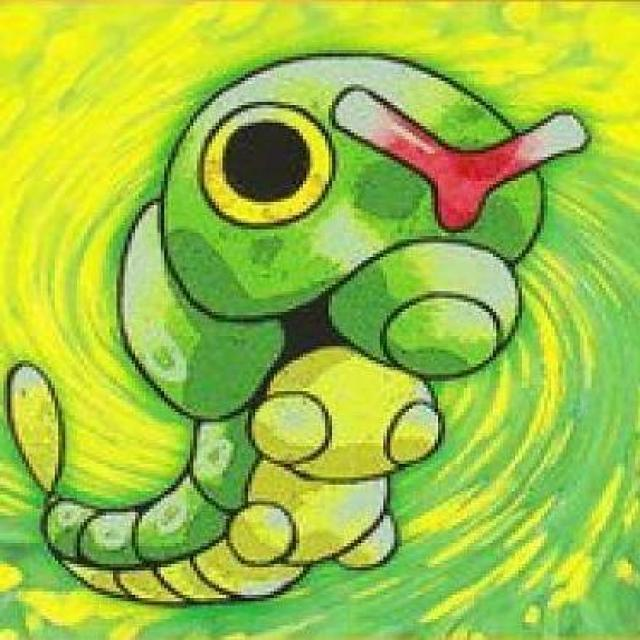Caterpie: (46, 54, 554, 599)
